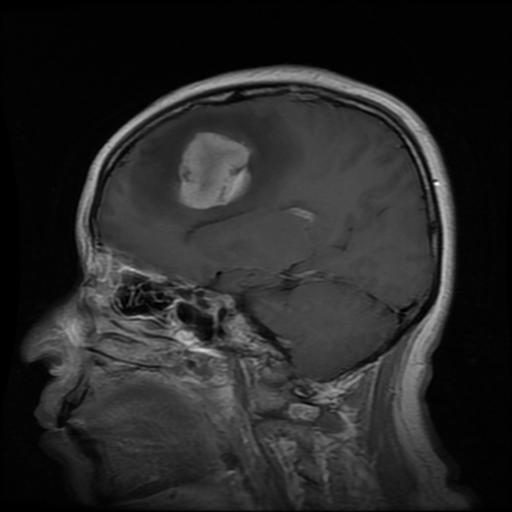Menigiomia_tumour: (177, 131, 249, 208)
